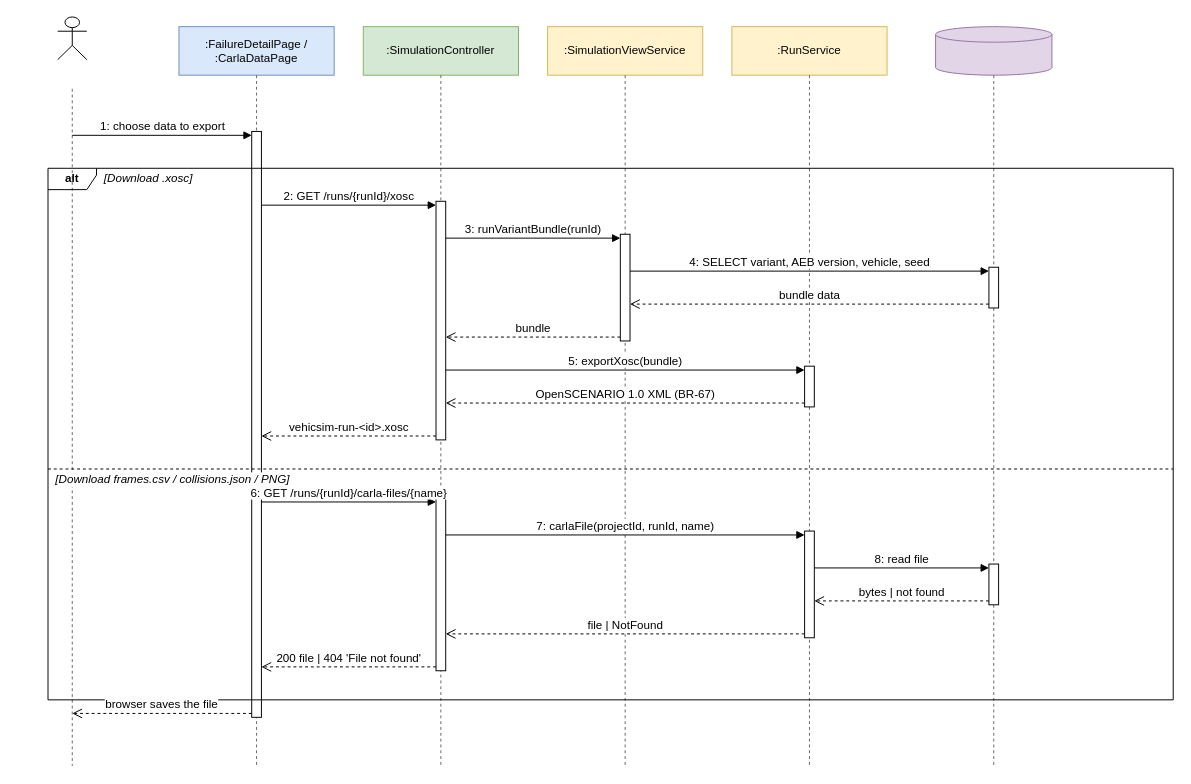
Image size: 1191x784. Some labels were removed from this diagram. Here are the shapes that lost their labels. From the top down, the centre of each, then its label:
At (x=72, y=38): "Engineer / Reviewer / Experiencer".
At (x=993, y=50): "MySQL / CARLA run files".
